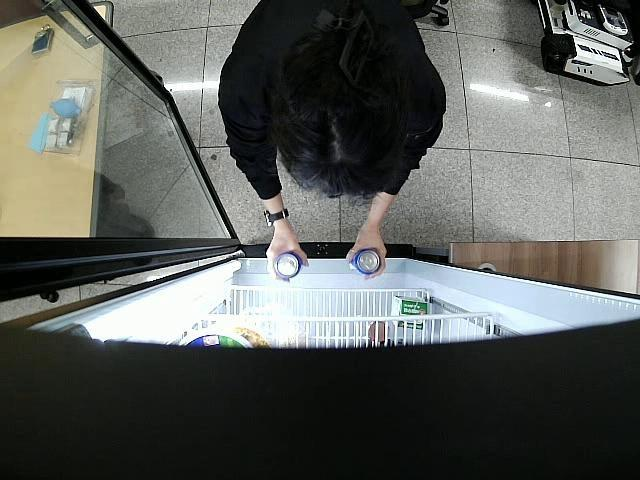13_pocariSweat: (352, 246, 382, 275), (274, 252, 304, 278)
